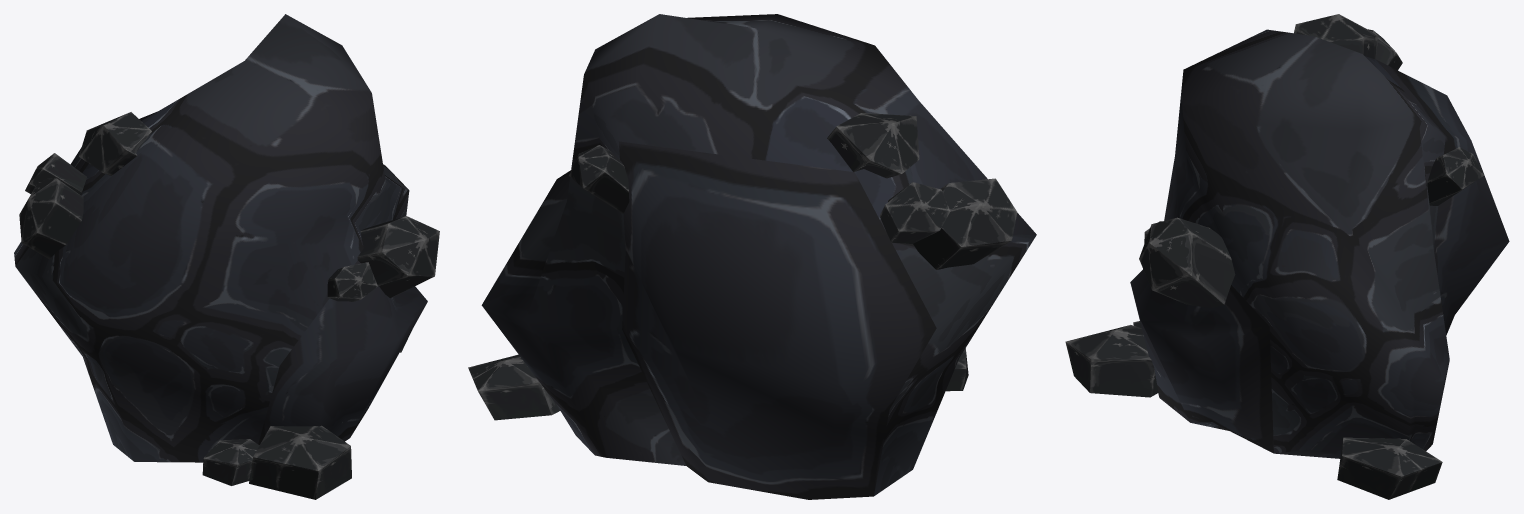
File: SM_PROP_orevein_iron_dungeon.fbx
3 renders of one model, left to right at view 1: azimuth 30°, elevation 25°; view 2: azimuth 150°, elevation 25°; view 3: azimuth 270°, elevation 25°, orthographic. The views are drawn at different scales.
Parts seen in each view (by area): view 1: SM_PROP_orevein_iron_dungeon; view 2: SM_PROP_orevein_iron_dungeon; view 3: SM_PROP_orevein_iron_dungeon.
Part boxes in pixels (left/top/right/bottom): SM_PROP_orevein_iron_dungeon: left=14, top=14, right=439, bottom=499; SM_PROP_orevein_iron_dungeon: left=468, top=14, right=1036, bottom=499; SM_PROP_orevein_iron_dungeon: left=1065, top=14, right=1509, bottom=499.
Bounding box in the file's own units: 82.54 × 69.45 × 69.75.
